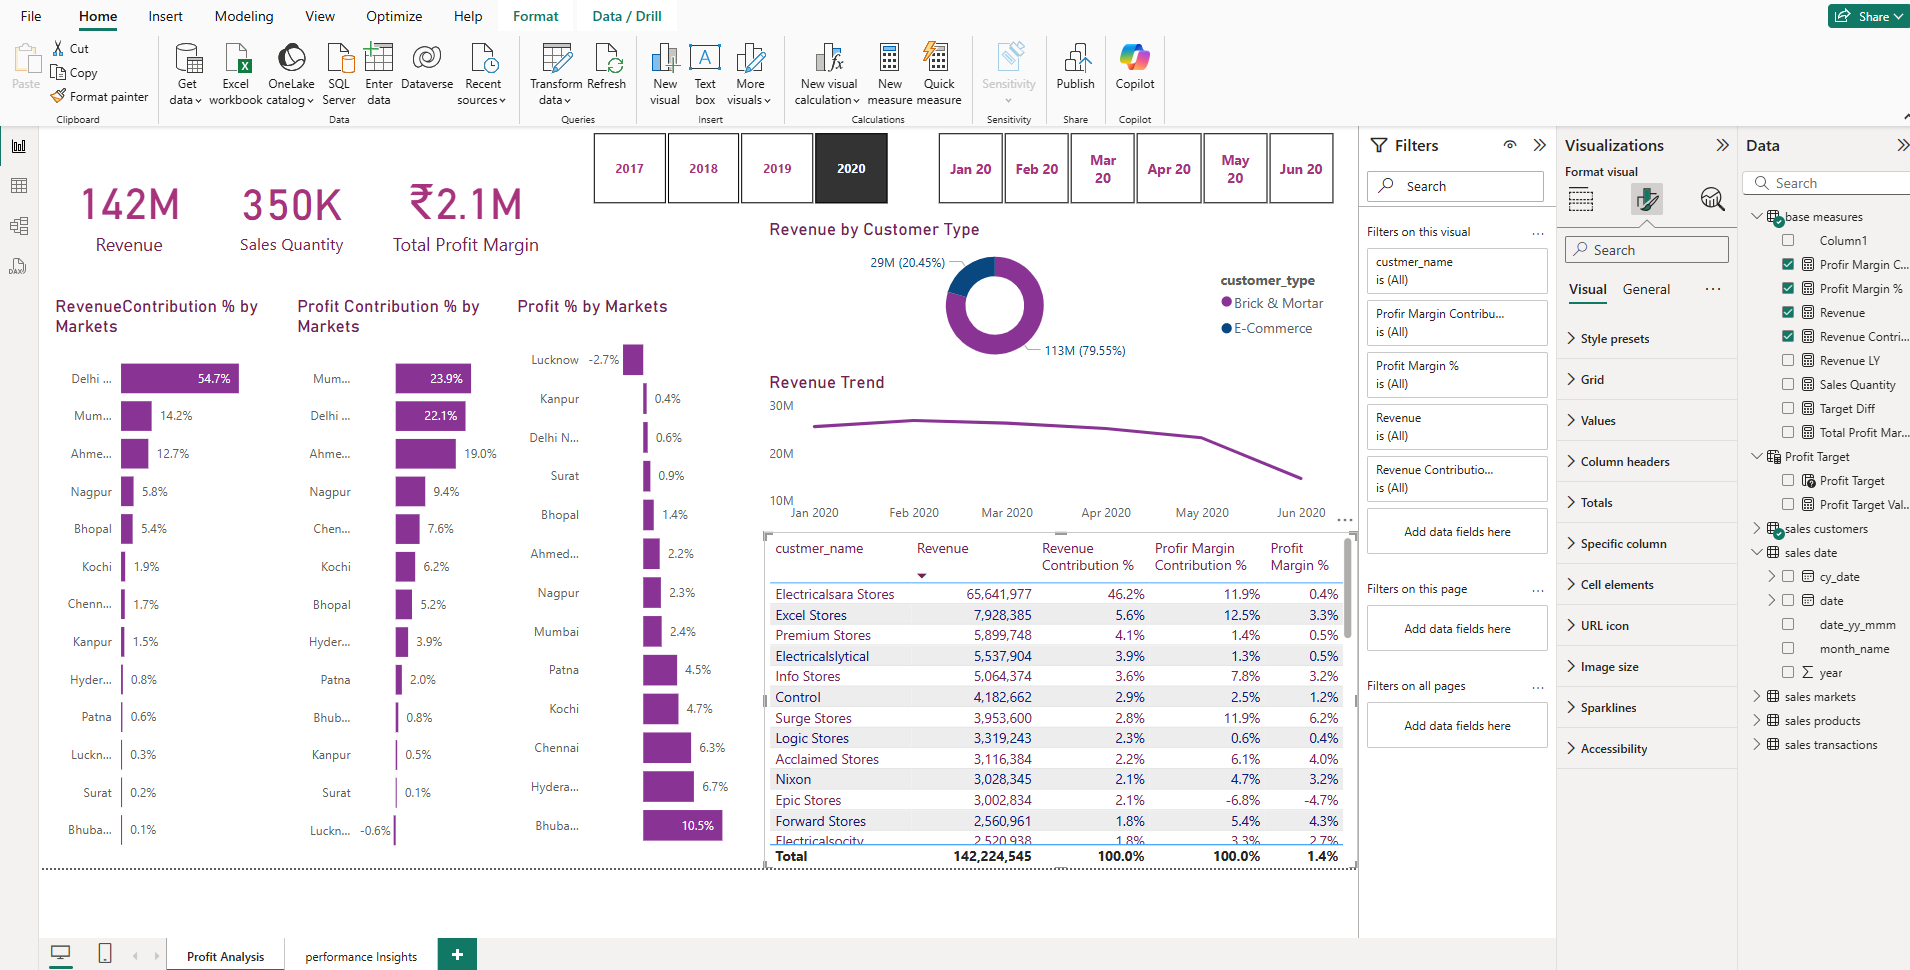

The dashboard page shown, as its layout file describes it:
{"tool":"powerbi","page":{"name":"Profit Analysis","canvas":[1280,720],"ordinal":0},"visuals":[{"type":"card","fields":{"Values":["base measures.Revenue"]},"box":[0,0,174.7,165],"z":0},{"type":"card","fields":{"Values":["base measures.Sales_qty"]},"box":[170.8,0,149.4,165],"z":1000},{"type":"barChart","title":"Profit % by Markets","fields":{"Y":["base measures.Profit Margin %"],"Category":["sales markets.markets_name"]},"box":[459,165,244.5,549.3],"z":2000},{"type":"barChart","title":"Profit Contribution % by Markets","fields":{"Category":["sales markets.markets_name"],"Y":["base measures.Profir Margin Contribution %"]},"box":[245.5,165,213.5,553.1],"z":3000},{"type":"slicer","fields":{"Values":["sales date.year"]},"box":[512.4,0,334.8,82.5],"z":4000},{"type":"slicer","fields":{"Values":["sales date.cy_date"]},"box":[847.2,0,432.8,82.5],"z":5000},{"type":"tableEx","title":"Top 5 Customers","fields":{"Values":["sales customers.custmer_name","base measures.Revenue","base measures.Revenue Contribution %","base measures.Profir Margin Contribution %","base measures.Profit Margin %"]},"box":[703.6,394,576.4,328],"z":6000},{"type":"lineChart","title":"Revenue Trend","fields":{"Y":["base measures.Revenue"],"Category":["sales date.cy_date.Variation.Date Hierarchy.Year","sales date.cy_date.Variation.Date Hierarchy.Quarter","sales date.cy_date.Variation.Date Hierarchy.Month","sales date.cy_date.Variation.Date Hierarchy.Day"]},"box":[703.6,238.7,551.2,155.3],"z":8000},{"type":"card","fields":{"Values":["base measures.total Profit margin"]},"box":[320.2,0,188.3,165],"z":9000},{"type":"barChart","title":"RevenueContribution % by Markets","fields":{"Category":["sales markets.markets_name"],"Y":["base measures.Revenue Contribution %"]},"box":[10.7,165,222.2,553.1],"z":9002},{"type":"donutChart","title":"Revenue by Customer Type","fields":{"Y":["base measures.Revenue"],"Category":["sales customers.customer_type"]},"box":[696.8,90.3,563.8,149.4],"z":9003}]}

Visuals, with their boxes on the page's 1280x720 design canvas (x1, y1, x2, y2). These are canvas units, not pixel positions in the 1910x970 screenshot, which may show the page scaled, cropped or inside an application window:
card - base measures.Revenue: Rect(0, 0, 175, 165)
card - base measures.Sales_qty: Rect(171, 0, 320, 165)
"Profit % by Markets" barChart: Rect(459, 165, 704, 714)
"Profit Contribution % by Markets" barChart: Rect(246, 165, 459, 718)
slicer - sales date.year: Rect(512, 0, 847, 82)
slicer - sales date.cy_date: Rect(847, 0, 1280, 82)
"Top 5 Customers" tableEx: Rect(704, 394, 1280, 722)
"Revenue Trend" lineChart: Rect(704, 239, 1255, 394)
card - base measures.total Profit margin: Rect(320, 0, 508, 165)
"RevenueContribution % by Markets" barChart: Rect(11, 165, 233, 718)
"Revenue by Customer Type" donutChart: Rect(697, 90, 1261, 240)
